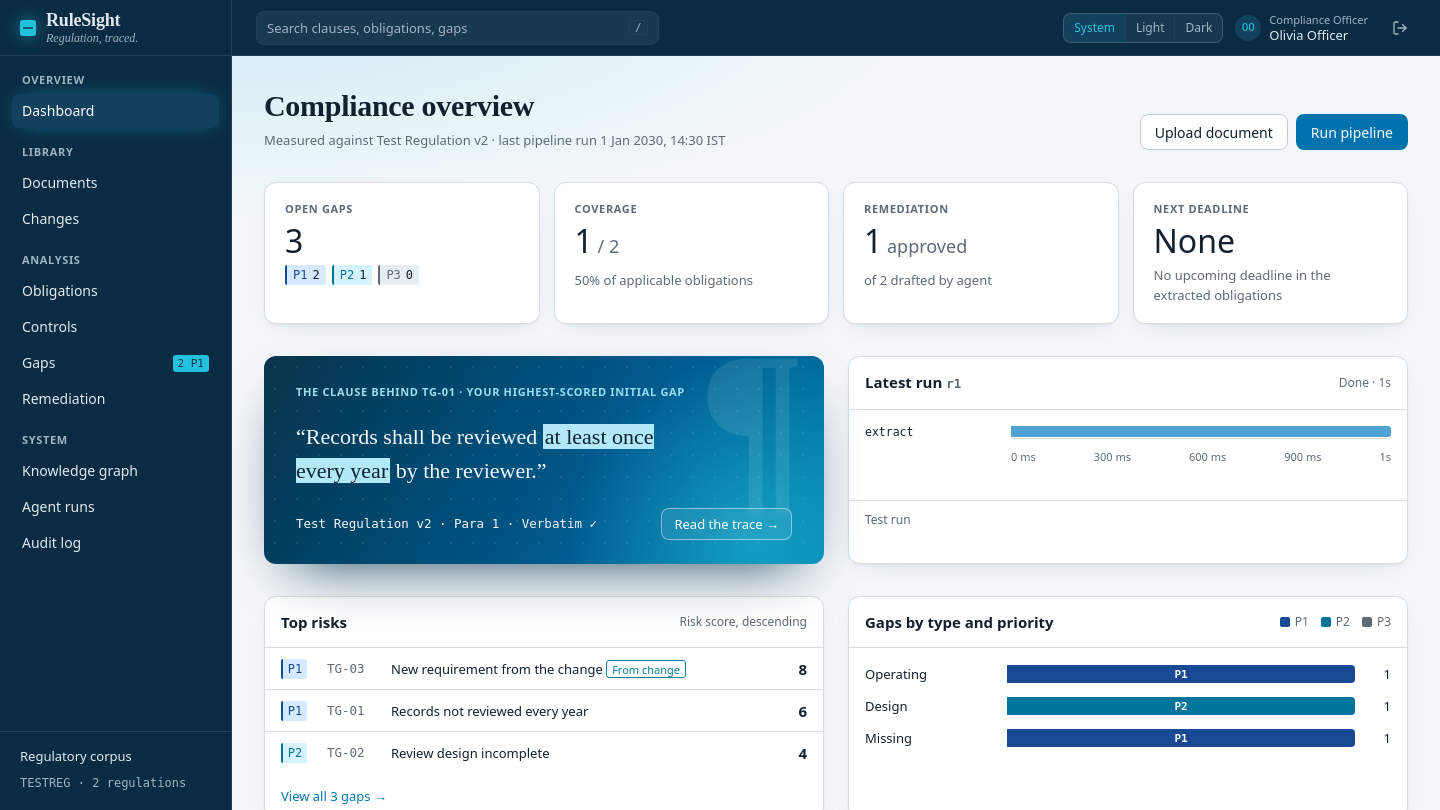
Scenario: search › opens with Ctrl+K and jumps to a page
The image size is (1440, 810).
Expected: the heading "Compliance overview" is shown, [264, 89, 534, 122]
Type keys "{Control>}k{/Control}"
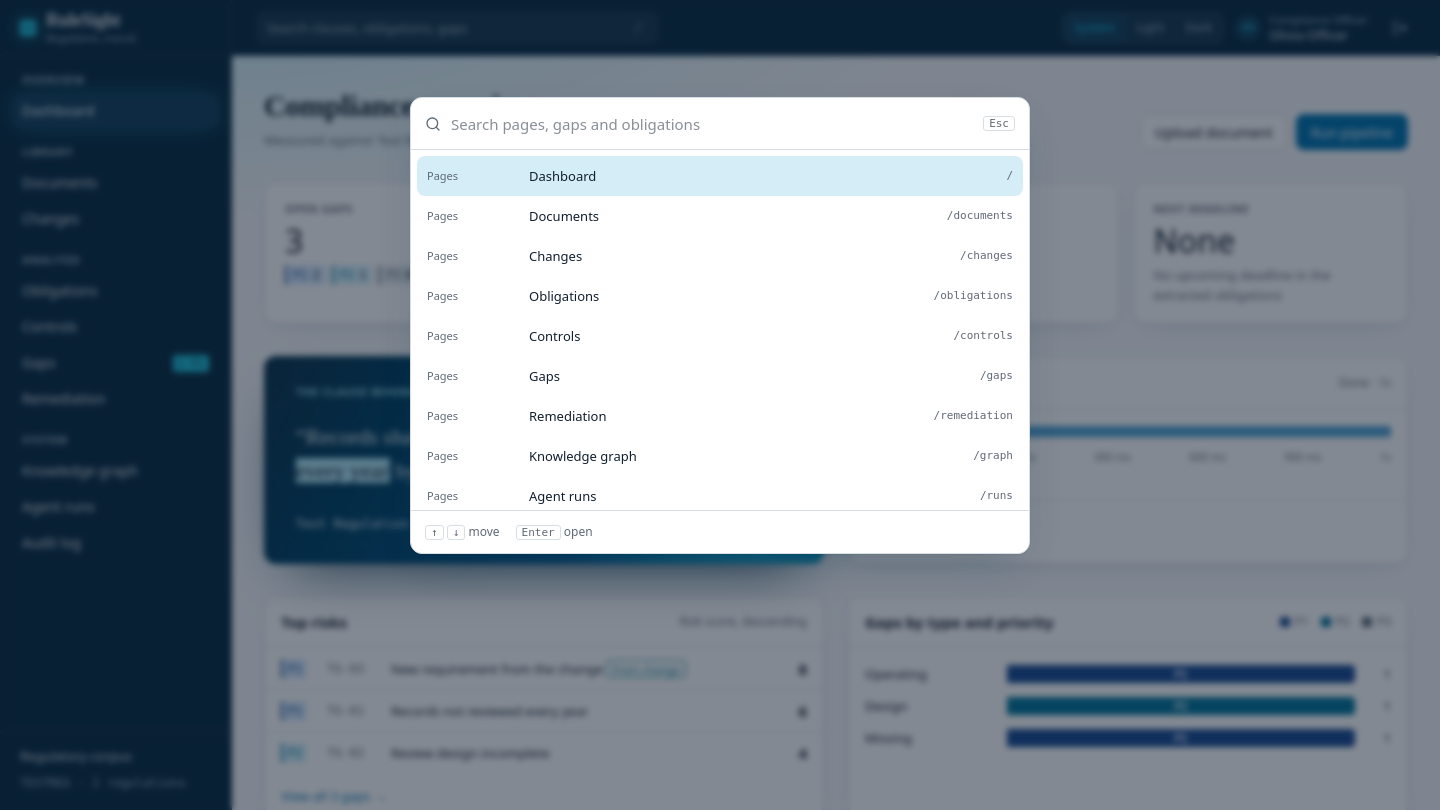
Type "audit" into the dropdown at [712, 124], box [451, 113, 973, 135]
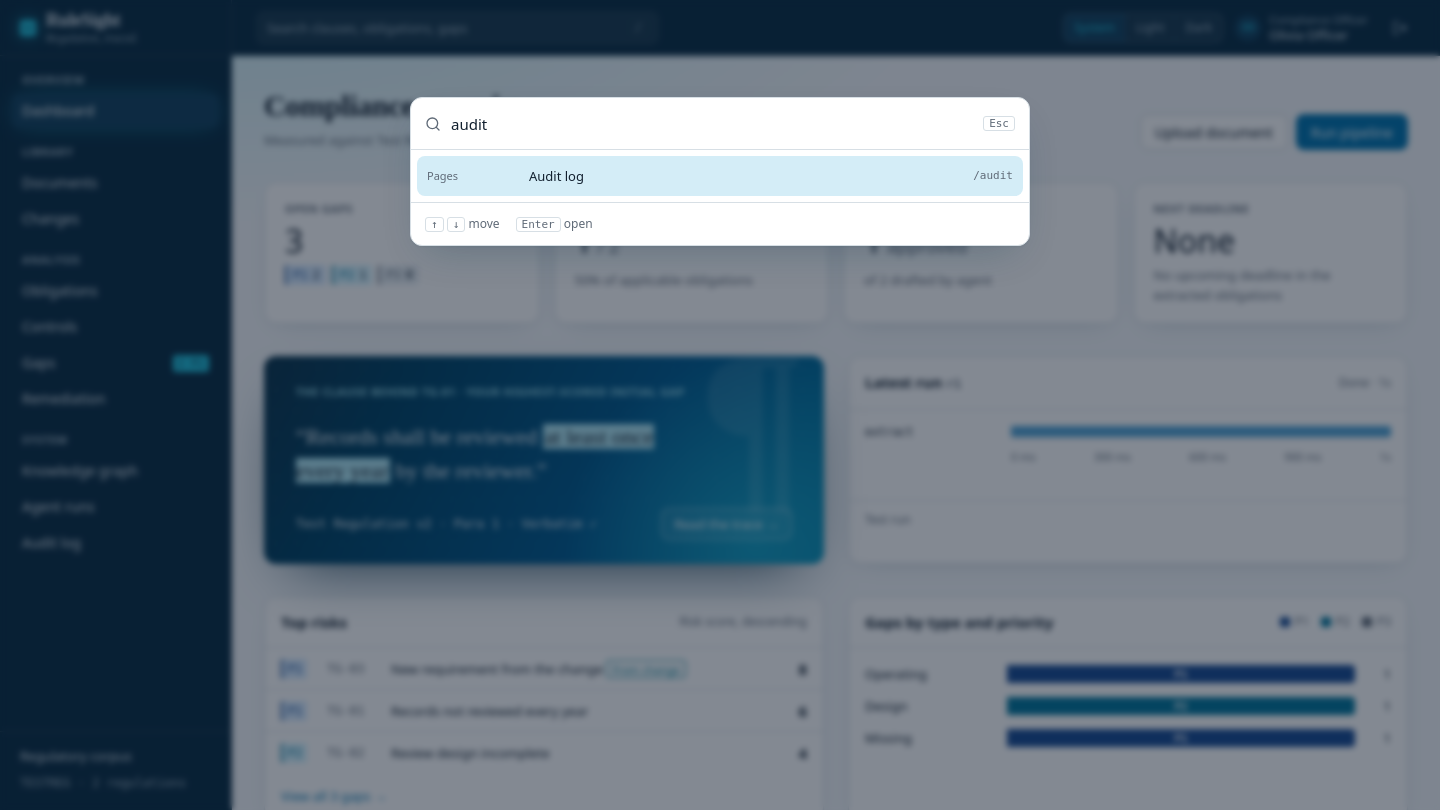
Press Enter
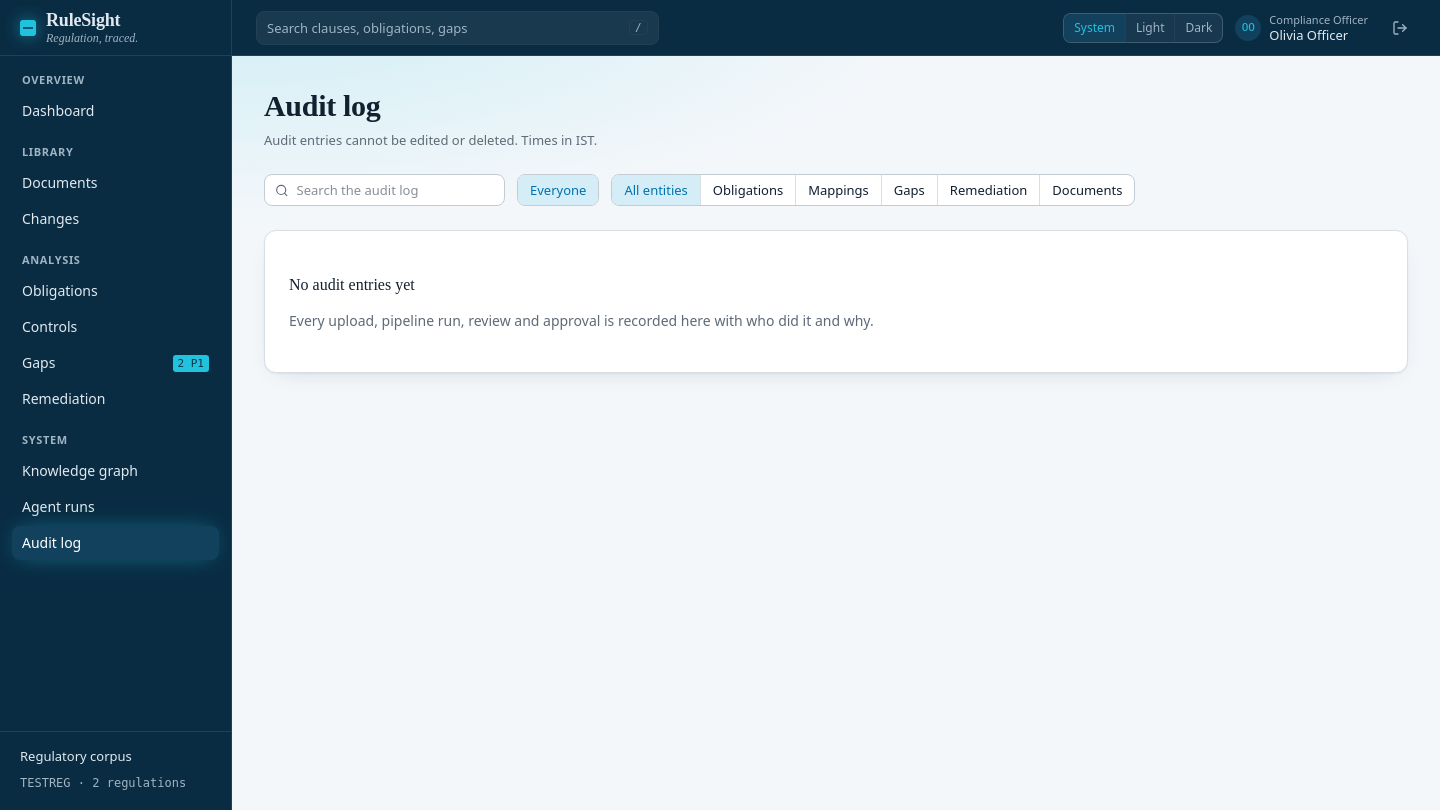
Expected: the heading "Audit log" is shown, [264, 89, 380, 122]
